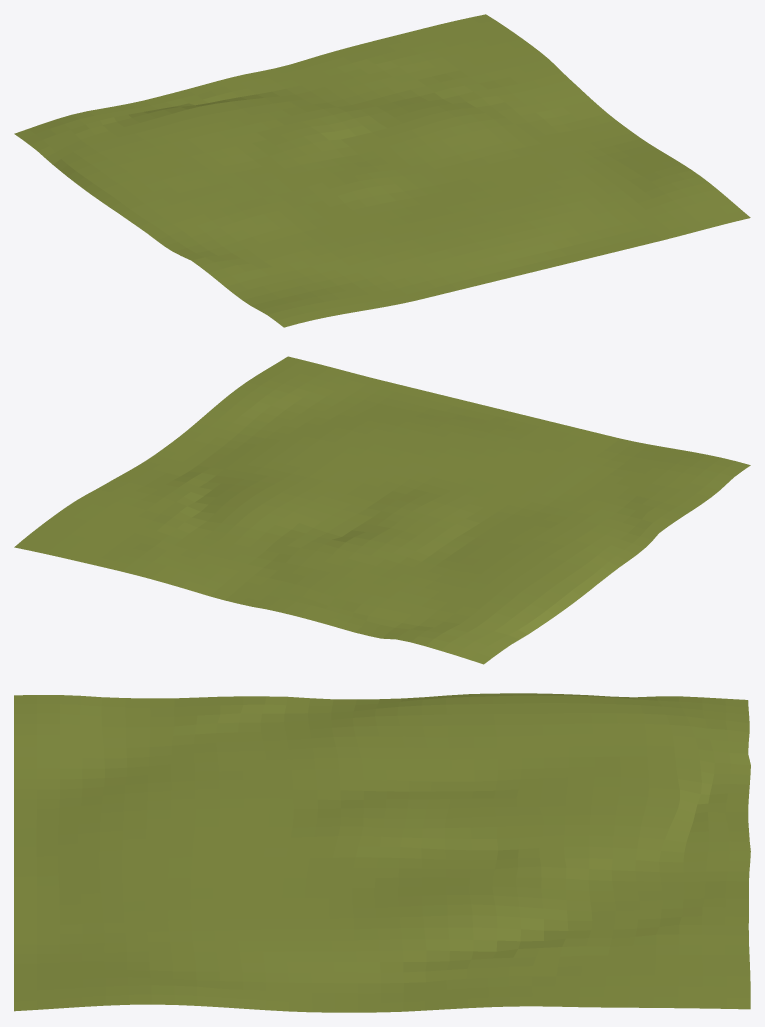
Rendered from forest-ground.glb.
The picture shows the model from 3 angles, top to bottom: view 1: azimuth 30°, elevation 25°; view 2: azimuth 150°, elevation 25°; view 3: azimuth 270°, elevation 25°; orthographic projection. The views are drawn at different scales.
Parts seen in each view (by area): view 1: ground-forest; view 2: ground-forest; view 3: ground-forest.
Part boxes in pixels (x1,y1,x2,y2): ground-forest: [14, 14, 750, 327]; ground-forest: [14, 356, 750, 664]; ground-forest: [14, 693, 750, 1012].
Size of the model in its own units: 41.12 by 0.8362 by 40.16.
